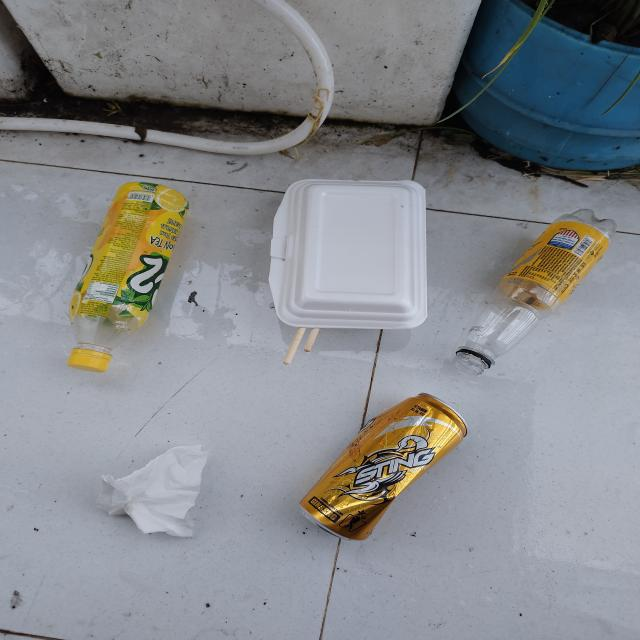bottle: (452, 209, 616, 376), (66, 182, 188, 373)
can: (299, 392, 468, 541)
foam box: (267, 179, 428, 330)
napkin: (94, 442, 210, 538)
